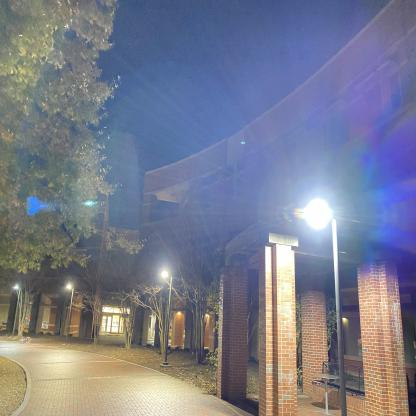eb2: (143, 43, 416, 388)
